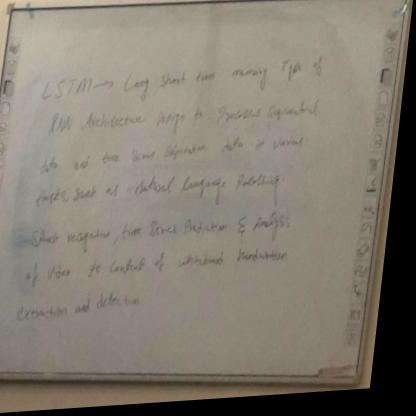Handwritten text: (22, 233, 301, 297), (35, 50, 335, 105), (32, 127, 317, 180), (26, 205, 304, 259), (44, 97, 329, 141), (33, 168, 294, 214), (14, 290, 155, 336)
Whiteboard: (0, 0, 414, 390)
